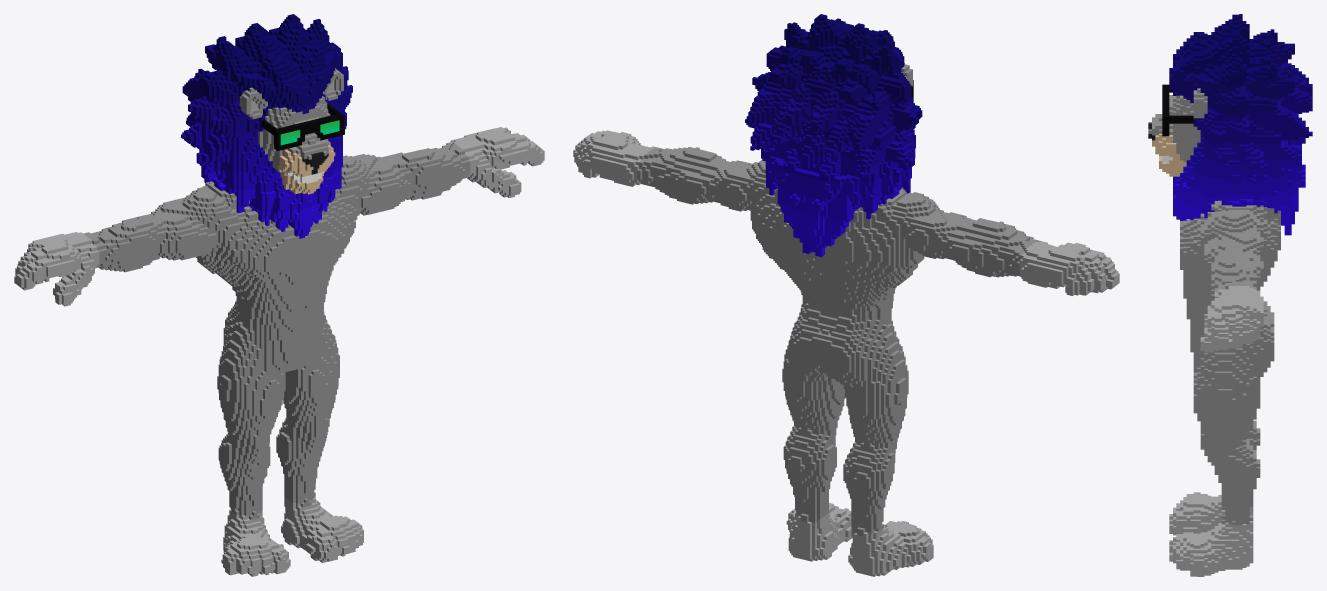
3 renders of one model, left to right at view 1: azimuth 30°, elevation 25°; view 2: azimuth 150°, elevation 25°; view 3: azimuth 270°, elevation 25°, orthographic. The views are drawn at different scales.
Visible parts, largest first — view 1: big_smile; view 2: big_smile; view 3: big_smile.
Part boxes in pixels (left/top/right/bottom): big_smile: left=14, top=14, right=544, bottom=576; big_smile: left=573, top=14, right=1119, bottom=576; big_smile: left=1148, top=14, right=1312, bottom=576.
Bounding box in the file's own units: 17.2 × 16.5 × 4.7.
Materials: 4 (4 with a texture image).
